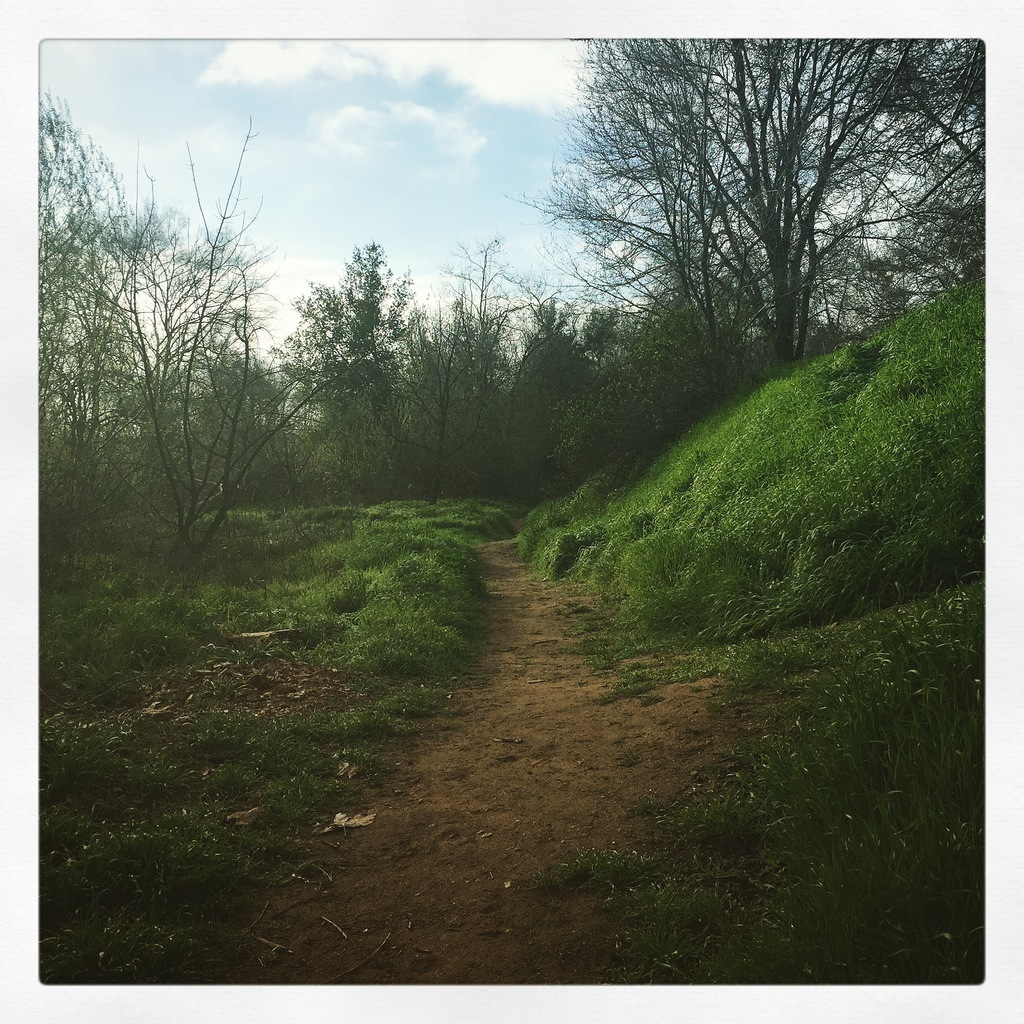Tree: (40, 84, 633, 518), (522, 37, 940, 423), (838, 37, 983, 299)
